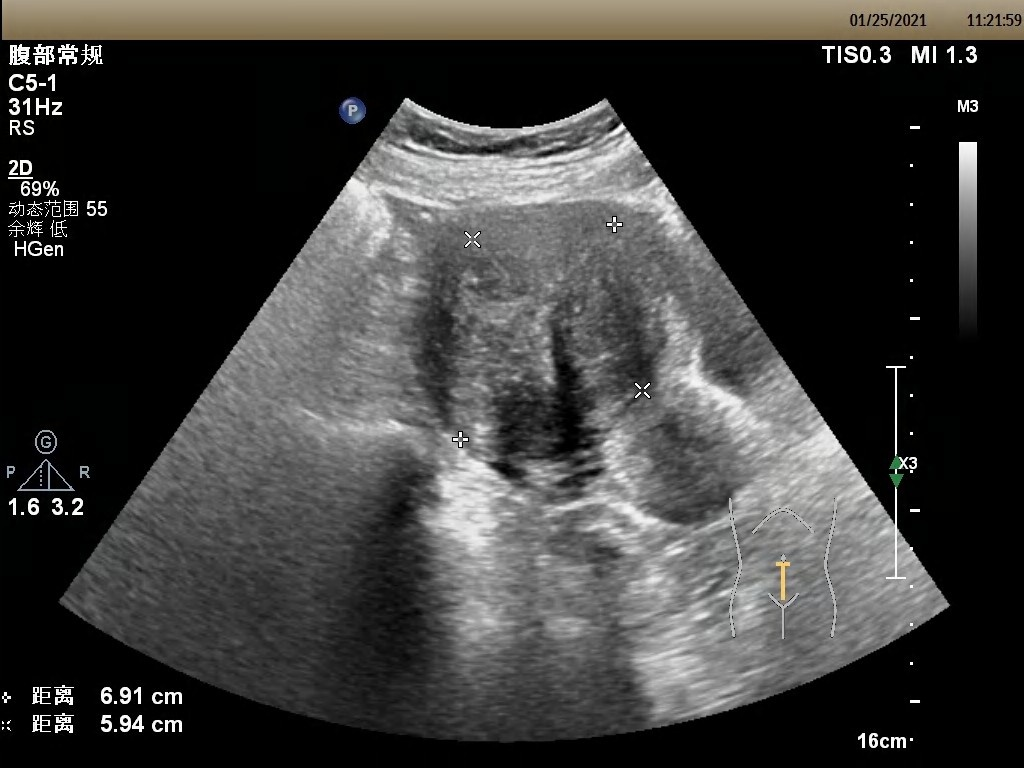肌瘤: (454, 235, 644, 441)
